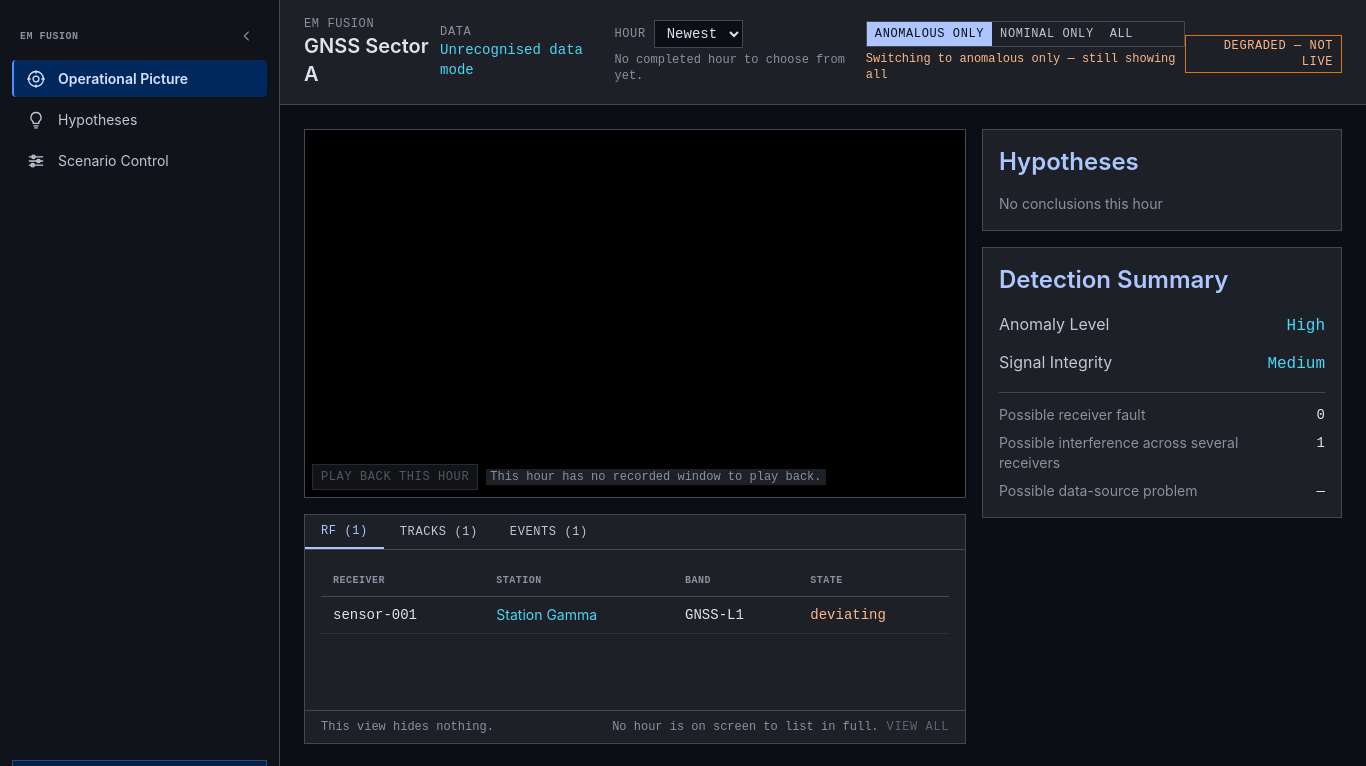
Test: collapsing the navigation rail › stays collapsed when the analyst moves to another screen
The image size is (1366, 766).
Click the button named "navigation": coordinates (247, 36) [235,24,259,48]
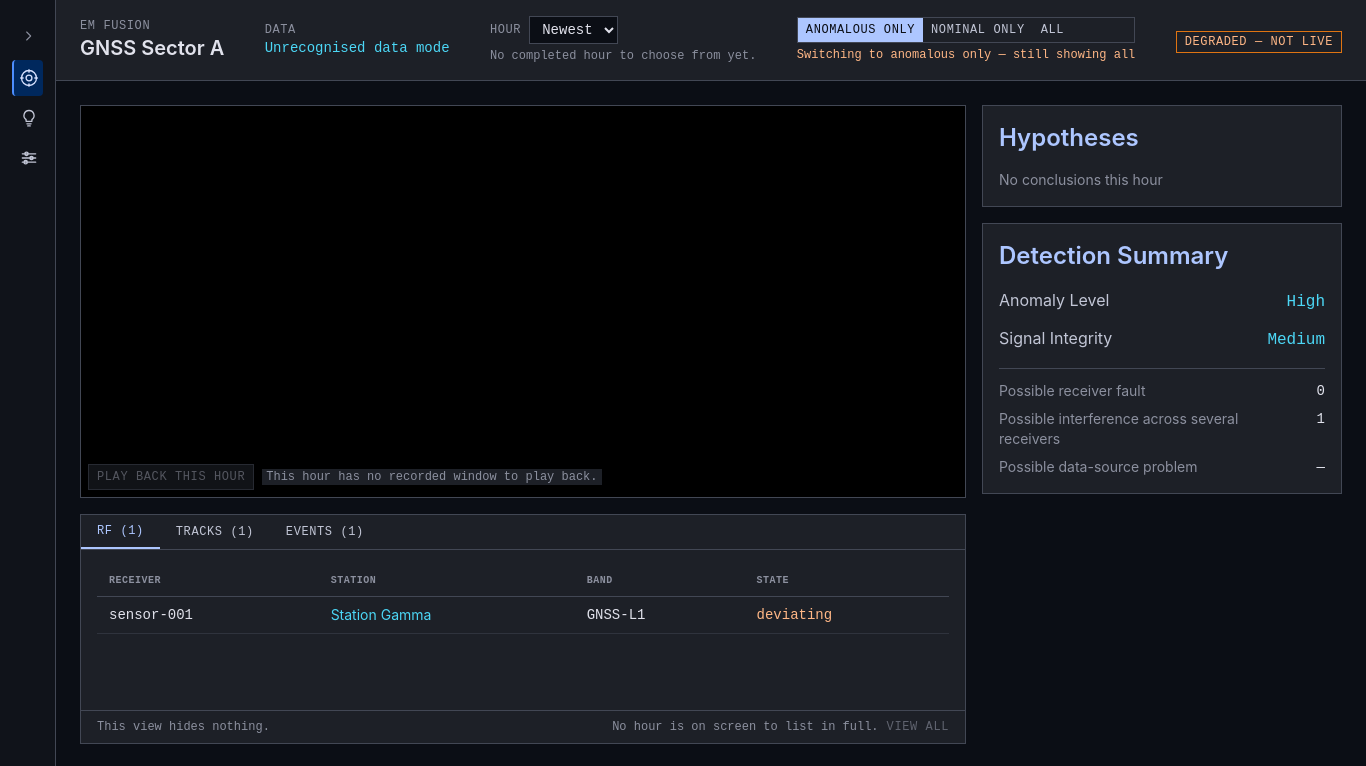
Click the link named "hypotheses": coordinates (28, 118) [12,100,43,136]
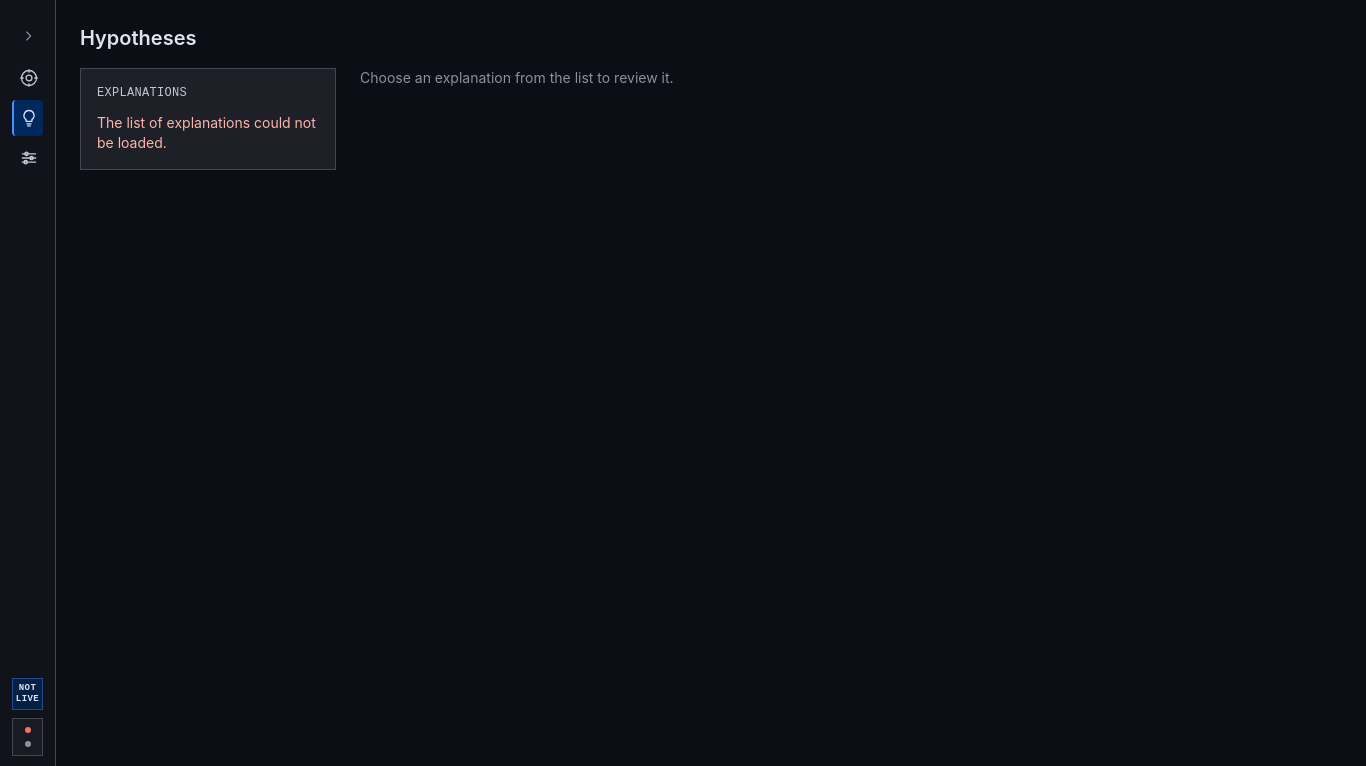
Expected: the button named "navigation" is collapsed, [16,24,40,48]
Expected: the navigation bar "Explanations" is shown, [80,68,336,170]
